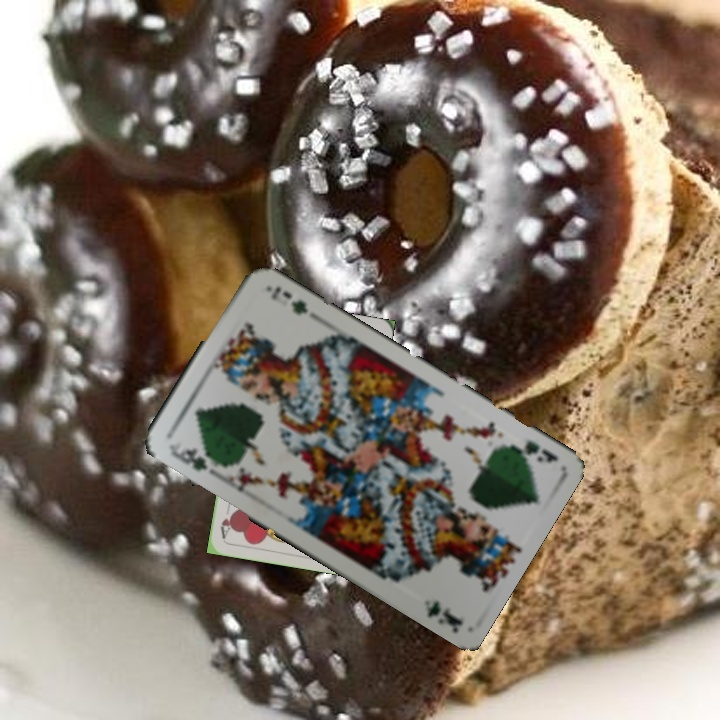GK: (164, 437, 220, 474), (502, 436, 561, 466)
